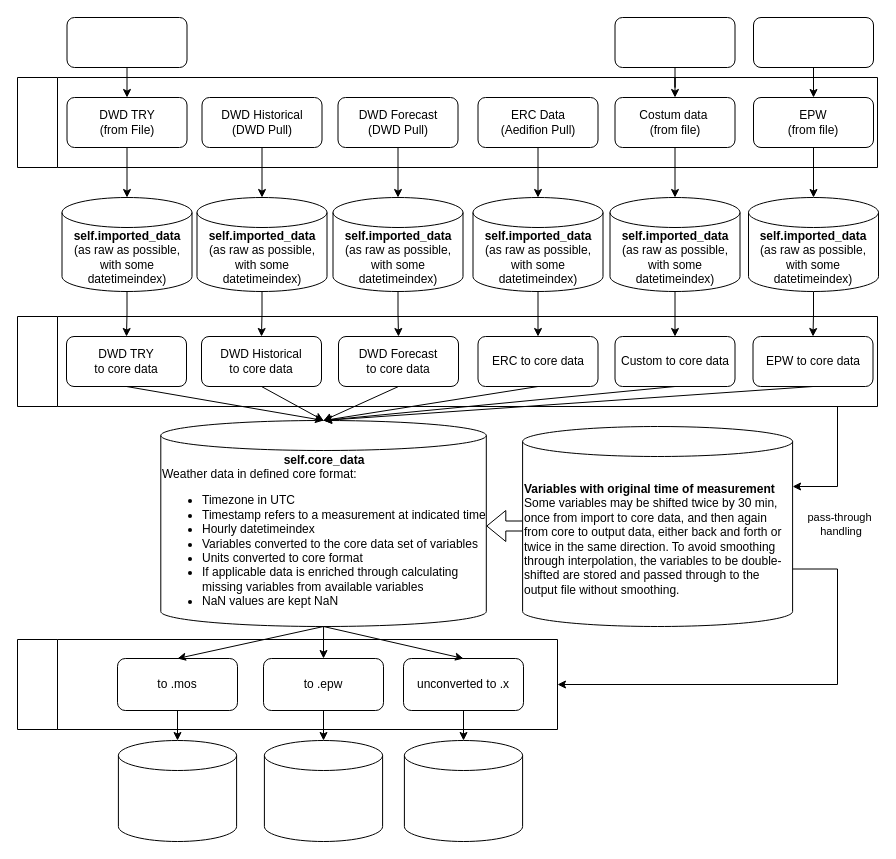
Some shapes in this 896 by 859 pixel diagram are drawn without their labels. Here are the shapes that lost their labels. From the top down, the box of each, then its label:
(66, 16, 187, 68): DWD TRY (upload)
(614, 16, 735, 68): Costum data (upload)
(752, 16, 874, 68): EPW (upload)
(16, 76, 878, 168): Imports
(16, 316, 878, 406): Transformation to core data
(16, 638, 558, 730): Core data to output file
(117, 740, 237, 842): ReaderTMY3 file for Modelica simulations
(263, 740, 383, 842): EPW file for EnergyPlus simulations
(403, 740, 523, 842): self.core_data to: .csv .json .pickle
